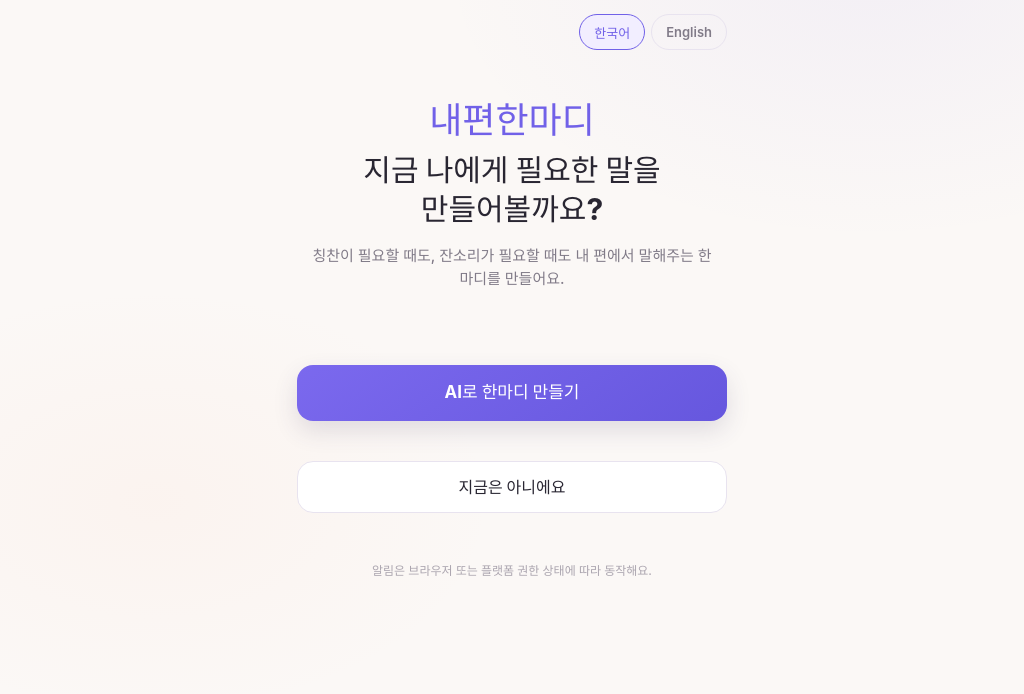
Test: 내편한마디 v0.5: AI candidate flow + local persistence + i18n › persists app state while keeping generation context and candidate drafts out of localStorage
Click the button "AI로 한마디 만들기": (512, 393) [297,365,727,421]
(page scrolled)
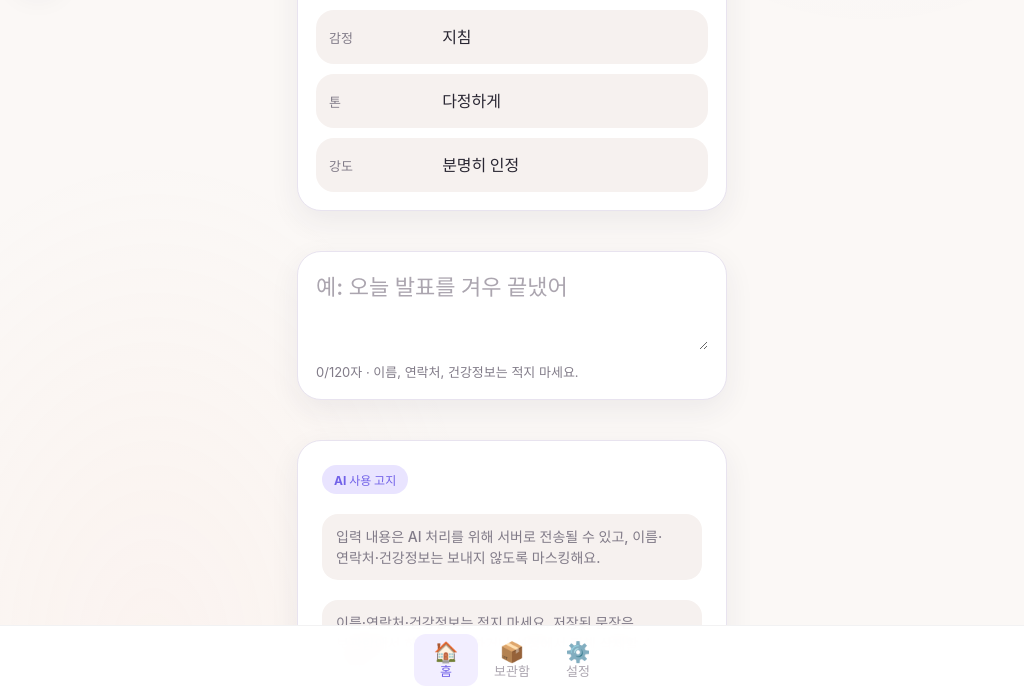
In the text box named "상황이나 해야 할 일을 짧게 적어주세요": (512, 310) [316,270,708,350], type "오늘 발표를 끝냈어"
(page scrolled)
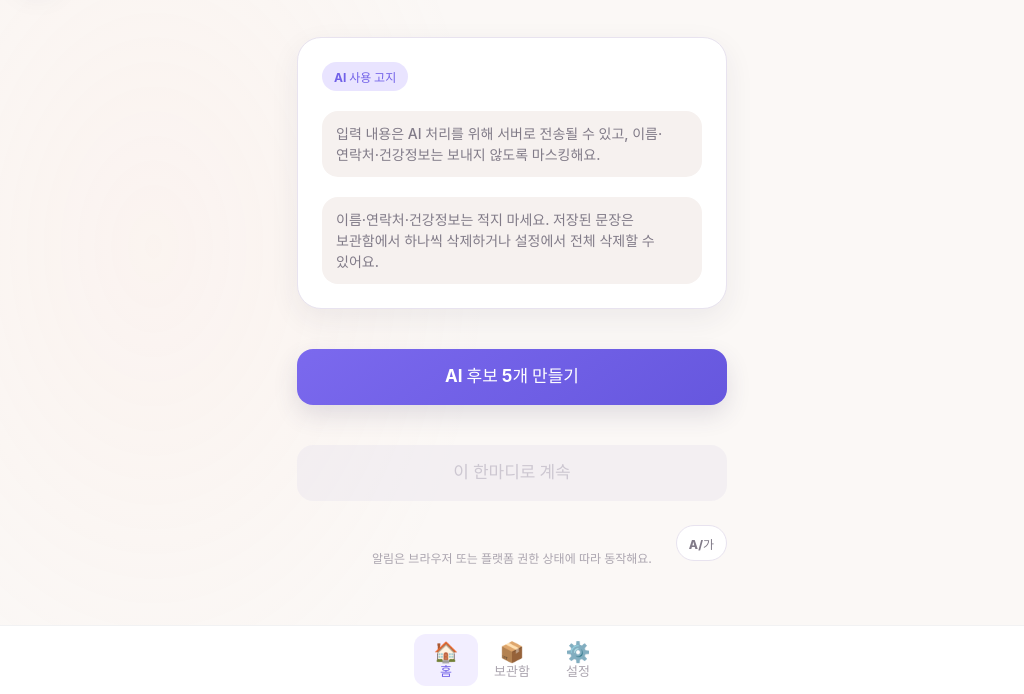
Click the button "AI 후보 5개 만들기": (512, 377) [297,349,727,405]
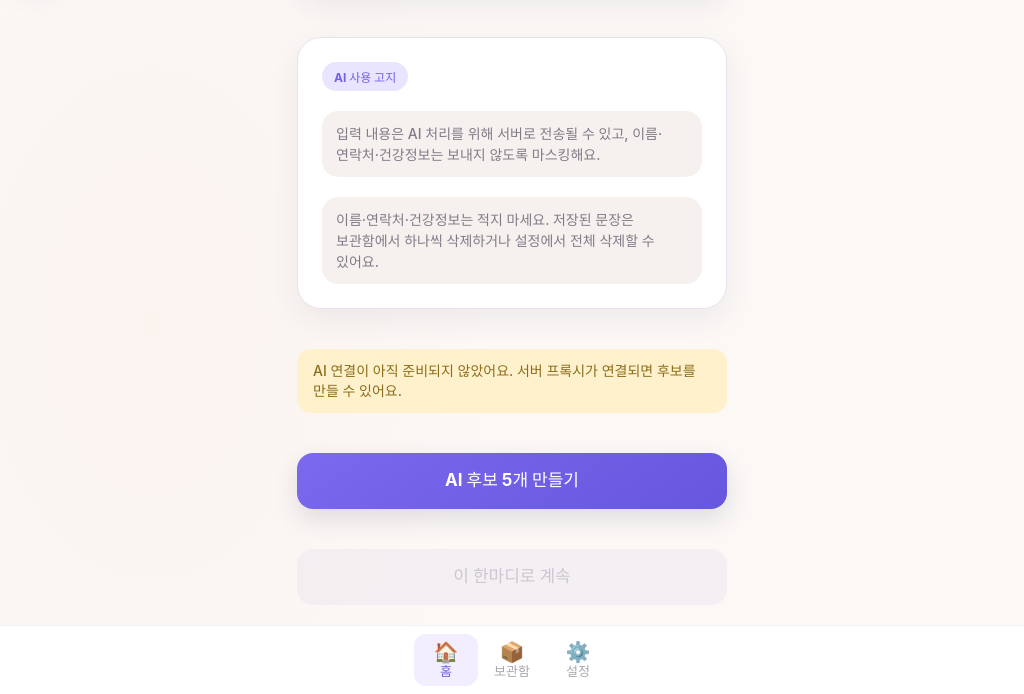
Check: the text "AI 연결이 아직 준비되지 않았어요. 서버 프록시가 연결되면 후보를 만들 수 있어요." is shown, box [297,349,727,412]
